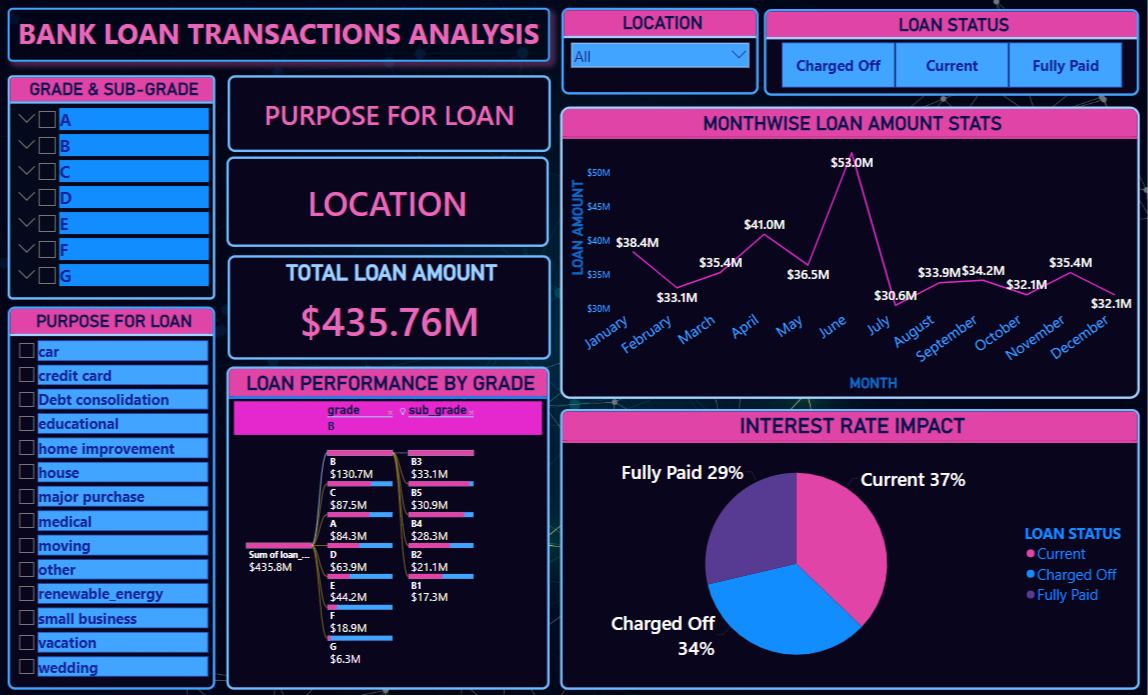

This screenshot's page, from the dashboard's own definition file:
{"tool":"powerbi","page":{"name":"Page 3 ","canvas":[2300,1400],"ordinal":2},"visuals":[{"type":"textbox","box":[20.5,17.9,1084.6,107.7],"z":0},{"type":"slicer","title":"GRADE & SUB-GRADE","fields":{"Values":["financial_loan.grade","financial_loan.sub_grade"]},"box":[20.5,151.3,415.4,448.7],"z":1000},{"type":"decompositionTreeVisual","title":"LOAN PERFORMANCE BY GRADE","fields":{"ExplainBy":["financial_loan.grade","financial_loan.sub_grade"],"Analyze":["Sum(financial_loan.loan_amount)"]},"box":[458.7,736,646.7,646.7],"z":2000},{"type":"slicer","title":"PURPOSE FOR LOAN","fields":{"Values":["financial_loan.purpose"]},"box":[20.5,615.4,415.4,766.7],"z":3000},{"type":"card","title":"PURPOSE","fields":{"Values":["financial_loan.Purpose Measure"]},"box":[459,151.3,646.2,153.8],"z":4000},{"type":"pieChart","title":"INTEREST RATE IMPACT","fields":{"Category":["financial_loan.loan_status"],"Y":["Avg(financial_loan.int_rate)"]},"box":[1125.6,820.5,1159,561.5],"z":5000},{"type":"card","title":"TOTAL LOAN AMOUNT","fields":{"Values":["Sum(financial_loan.loan_amount)"]},"box":[459.2,511.3,646.5,208.5],"z":6000},{"type":"slicer","title":"LOAN STATUS","fields":{"Values":["financial_loan.loan_status"]},"box":[1533.3,19,750,173.8],"z":7000},{"type":"lineChart","title":"MONTHWISE LOAN AMOUNT STATS","fields":{"Y":["Sum(financial_loan.loan_amount)"],"Category":["financial_loan.next_payment_date.Variation.Date Hierarchy.Month"]},"box":[1125.6,215.4,1159,584.6],"z":8000},{"type":"card","fields":{"Values":["financial_loan.COUNTRY SELECT"]},"box":[458.1,316.1,645.2,180.6],"z":10000},{"type":"slicer","title":"LOCATION","fields":{"Values":["financial_loan.address_state"]},"box":[1126.3,18.4,394.7,173.7],"z":11000}]}

Visuals, with their boxes in screenshot pixels (x1, y1, x2, y2), scaled from the page's 2300x1400 canvas onto the 1148x695 screenshot:
textbox: select_region(10, 9, 552, 62)
"GRADE & SUB-GRADE" slicer: select_region(10, 75, 218, 298)
"LOAN PERFORMANCE BY GRADE" decompositionTreeVisual: select_region(229, 365, 552, 686)
"PURPOSE FOR LOAN" slicer: select_region(10, 306, 218, 686)
"PURPOSE" card: select_region(229, 75, 552, 151)
"INTEREST RATE IMPACT" pieChart: select_region(562, 407, 1140, 686)
"TOTAL LOAN AMOUNT" card: select_region(229, 254, 552, 357)
"LOAN STATUS" slicer: select_region(765, 9, 1140, 96)
"MONTHWISE LOAN AMOUNT STATS" lineChart: select_region(562, 107, 1140, 397)
card - financial_loan.COUNTRY SELECT: select_region(229, 157, 551, 247)
"LOCATION" slicer: select_region(562, 9, 759, 95)
